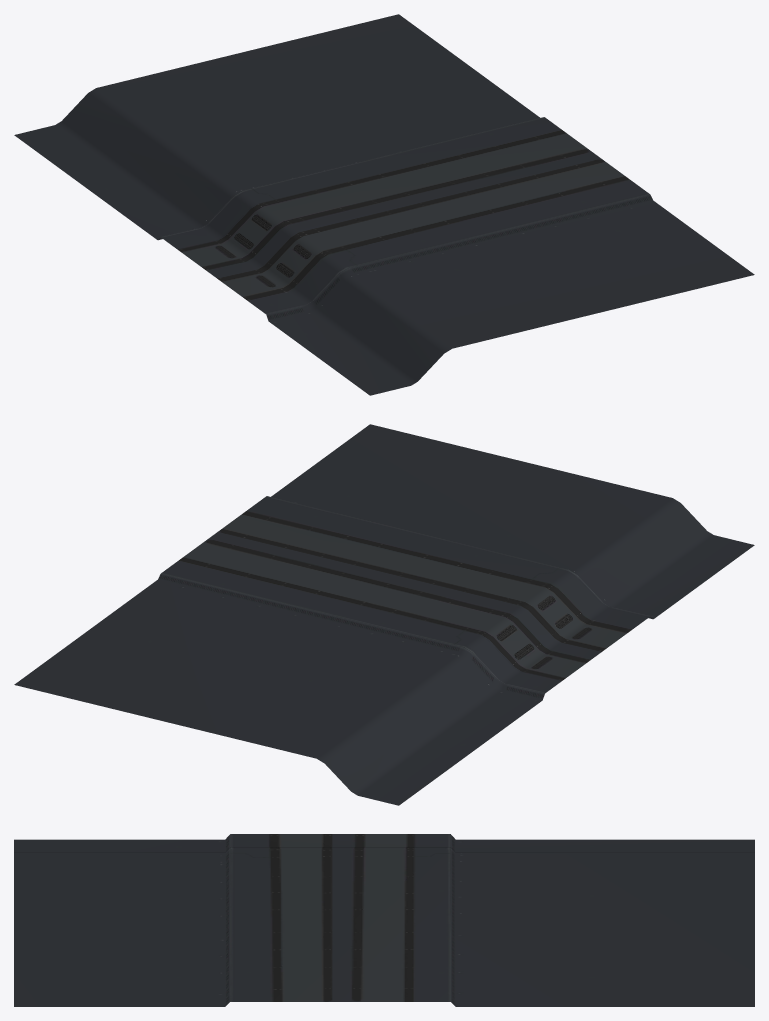
File: Ceiling_main.glb
3 views of the same model, one above another, from view 1: azimuth 30°, elevation 25°; view 2: azimuth 150°, elevation 25°; view 3: azimuth 270°, elevation 25° (orthographic). The views are drawn at different scales.
Parts seen in each view (by area): view 1: Ceiling_main_low; view 2: Ceiling_main_low; view 3: Ceiling_main_low.
Part boxes in pixels (<box>): Ceiling_main_low: <box>14,14,754,395</box>; Ceiling_main_low: <box>14,424,754,805</box>; Ceiling_main_low: <box>14,834,754,1006</box>.
Size of the model in its own units: 4.18 by 0.3261 by 6.7.
Materials: 1 (1 with a texture image).
